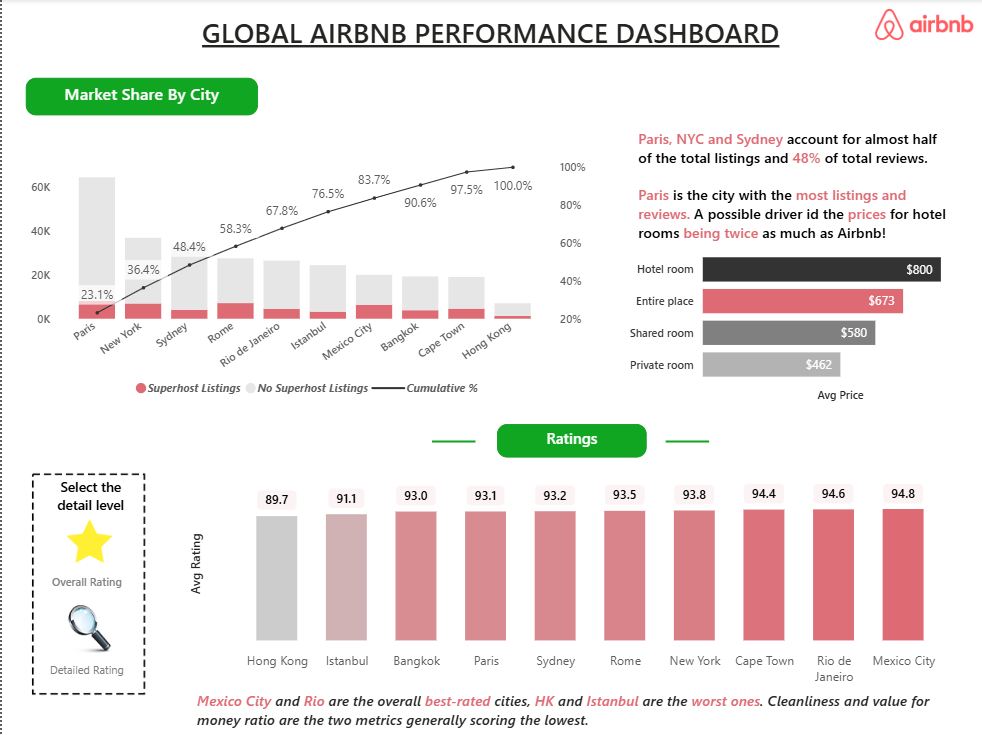

The page's visual inventory and layout, read from the dashboard file:
{"tool":"powerbi","page":{"name":"Ratings","canvas":[960,720],"ordinal":1},"visuals":[{"type":"textbox","box":[191.2,10,578.8,47.5],"z":0},{"type":"image","box":[51.4,506.3,68.5,47.7],"z":0,"group":"g1"},{"type":"image","box":[40.3,593.1,89.3,47.7],"z":0,"group":"g2"},{"type":"image","box":[843.8,10,116.2,30],"z":1000},{"type":"textbox","box":[36.7,555.2,92.9,29.3],"z":1000,"group":"g1"},{"type":"textbox","box":[29.3,640.8,107.6,37.9],"z":1000,"group":"g2"},{"type":"textbox","box":[23.2,77,227.4,36.7],"z":2000},{"type":"lineStackedColumnComboChart","fields":{"Category":["Listings.city"],"Y":["Listings.Superhost Listings","Listings.No Superhost Listings"],"Y2":["Listings.Cumulative %"]},"box":[23.2,149.2,553.9,249.5],"z":3000},{"type":"barChart","fields":{"Category":["Listings.room_type"],"Y":["Listings.Avg Price"]},"box":[607.5,227.5,352.5,171.2],"z":4000},{"type":"textbox","box":[617.5,122.5,317.5,120],"z":5000},{"type":"textbox","box":[484.2,415.8,146.7,33],"z":6000},{"type":"shape","box":[420.7,412.1,42.8,41.6],"z":7000},{"type":"shape","box":[649.3,412.1,42.8,41.6],"z":8000},{"type":"image","box":[0,424.3,170,295.9],"z":9000},{"type":"textbox","box":[36.7,463.5,100.3,51.4],"z":10000},{"type":"columnChart","fields":{"Category":["Listings.city"],"Y":["Listings.Avg Rating"]},"box":[179.8,463.5,755.7,215.2],"z":12000},{"type":"group","id":"g1","title":"Group 1","box":[36.7,506.3,92.9,78.3],"z":13000},{"type":"group","id":"g2","title":"Group 2","box":[29.3,593.1,107.6,85.6],"z":14000},{"type":"textbox","box":[185.9,671.3,749.6,48.9],"z":15000}]}

Visuals, with their boxes in screenshot pixels (x1, y1, x2, y2), scaled from the page's 960x720 canvas onto the 982x735 screenshot:
textbox: <box>196,10,788,59</box>
image: <box>53,517,123,566</box>
image: <box>41,605,133,654</box>
image: <box>863,10,981,41</box>
textbox: <box>38,567,133,597</box>
textbox: <box>30,654,140,693</box>
textbox: <box>24,79,256,116</box>
lineStackedColumnComboChart - Listings.city x Listings.Superhost Listings: <box>24,152,590,407</box>
barChart - Listings.room_type x Listings.Avg Price: <box>621,232,981,407</box>
textbox: <box>632,125,956,248</box>
textbox: <box>495,424,645,458</box>
shape: <box>430,421,474,463</box>
shape: <box>664,421,708,463</box>
image: <box>0,433,174,734</box>
textbox: <box>38,473,140,526</box>
columnChart - Listings.city x Listings.Avg Rating: <box>184,473,957,693</box>
"Group 1" group: <box>38,517,133,597</box>
"Group 2" group: <box>30,605,140,693</box>
textbox: <box>190,685,957,734</box>
